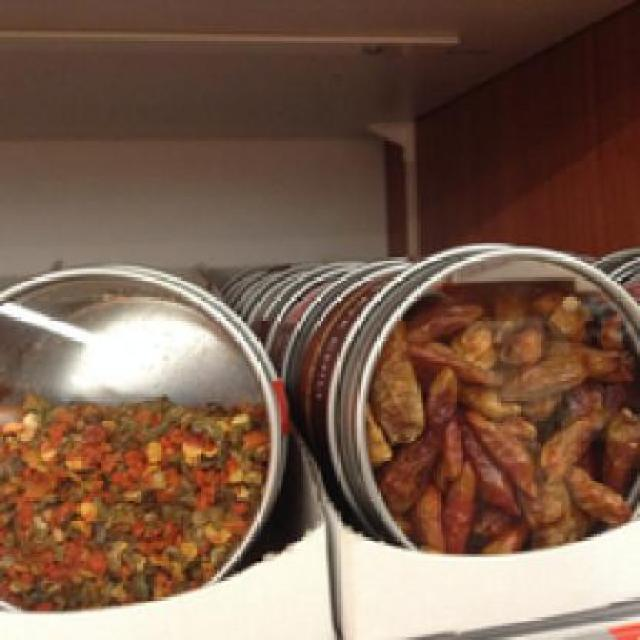Spices: (326, 246, 634, 560), (0, 266, 277, 612)
